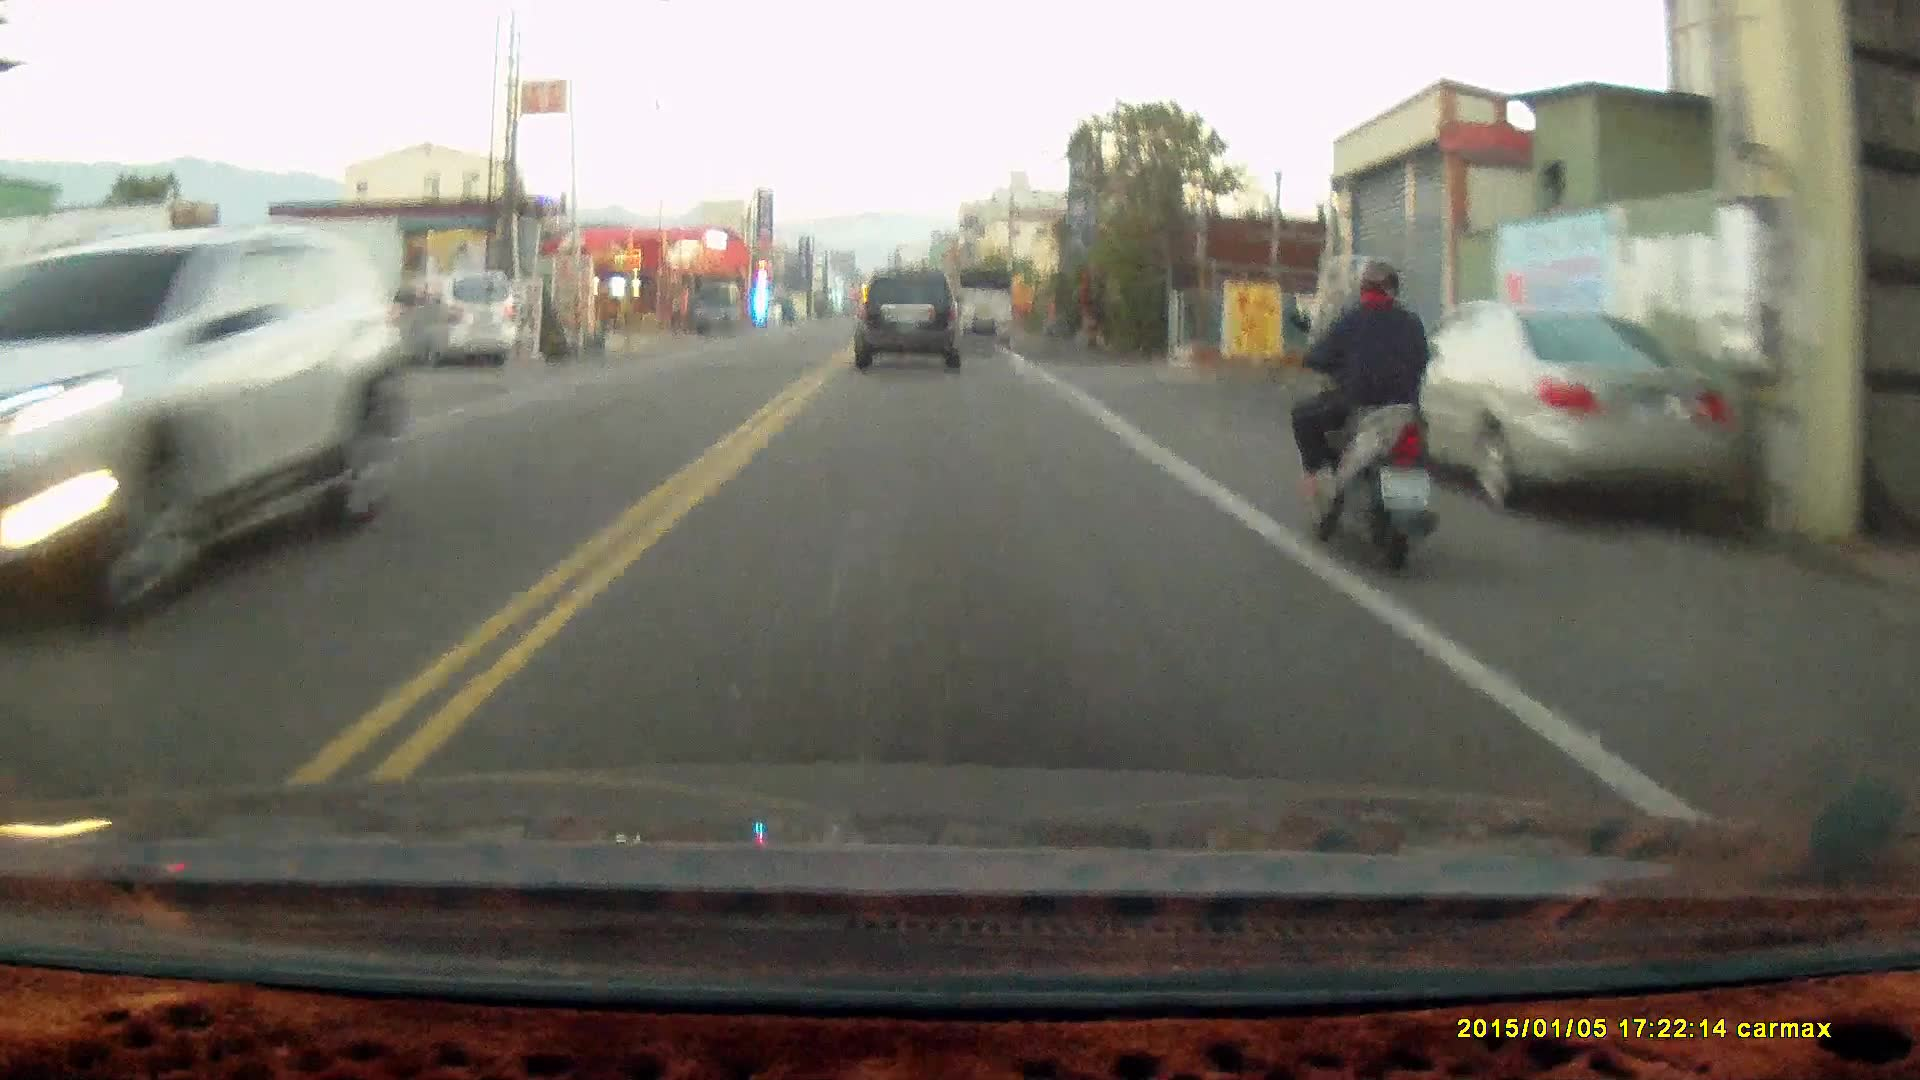rider: (1285, 263, 1437, 578)
vehicle: (1, 222, 413, 635), (1362, 297, 1765, 527), (383, 268, 519, 370), (853, 268, 966, 373), (955, 269, 1017, 345)
